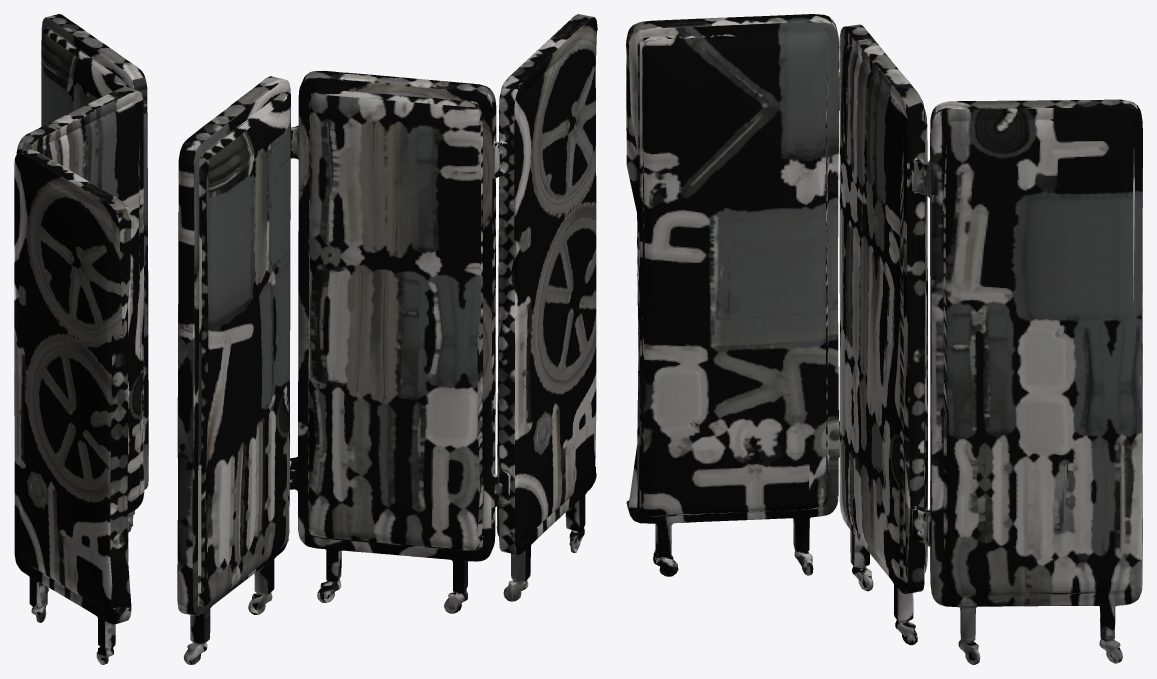
3 renders of one model, left to right at view 1: azimuth 30°, elevation 25°; view 2: azimuth 150°, elevation 25°; view 3: azimuth 270°, elevation 25°, orthographic. The views are drawn at different scales.
Visible parts, largest first — view 1: repaired; view 2: repaired; view 3: repaired.
Boxes of the visible parts, left/top/right/bottom form: repaired: left=14, top=14, right=148, bottom=664; repaired: left=177, top=14, right=597, bottom=664; repaired: left=626, top=14, right=1142, bottom=664.
Size of the model in its own units: 0.4028 by 1 by 0.8402.
